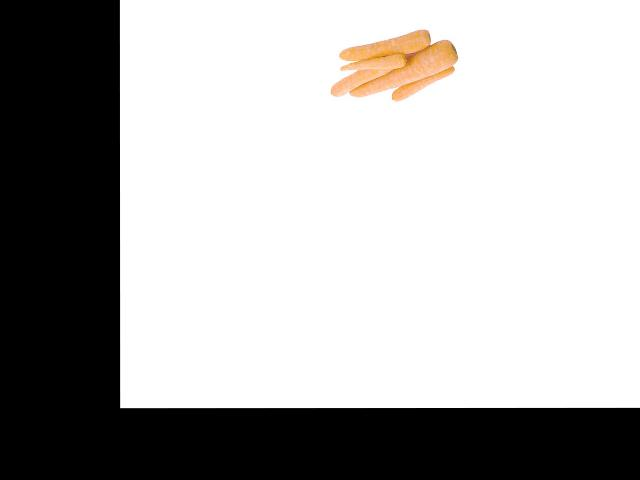carrot: (335, 33, 434, 56)
